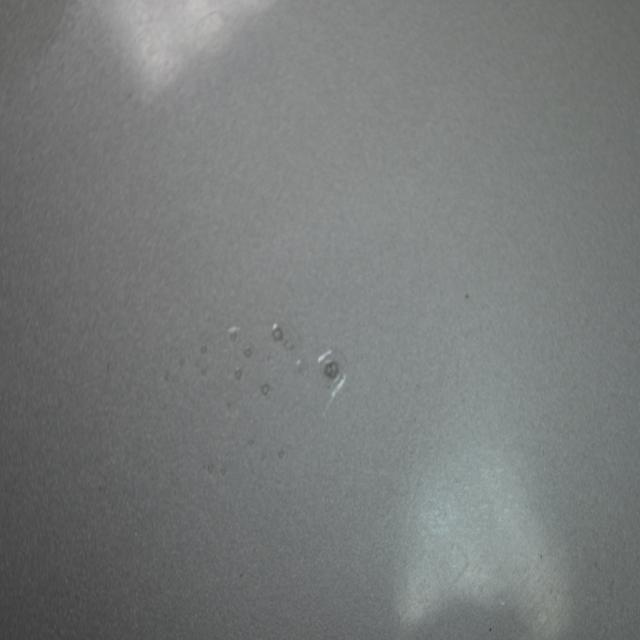dirt: (462, 284, 472, 308)
runs: (150, 319, 350, 473)
water marks: (429, 531, 476, 596)
